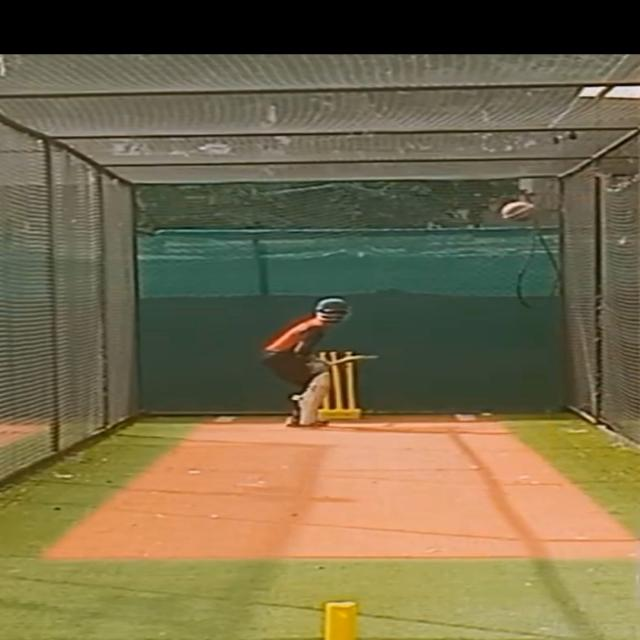ball: (498, 198, 541, 226)
stump: (319, 349, 359, 419)
